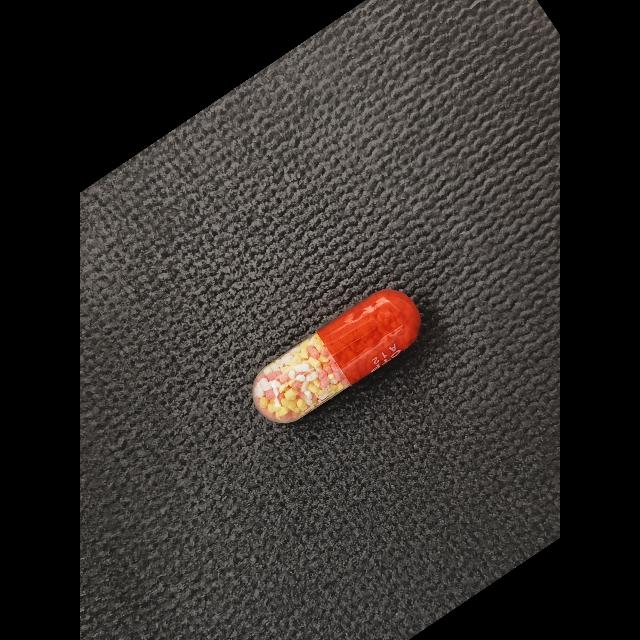Intact Capsule: (252, 290, 421, 423)
